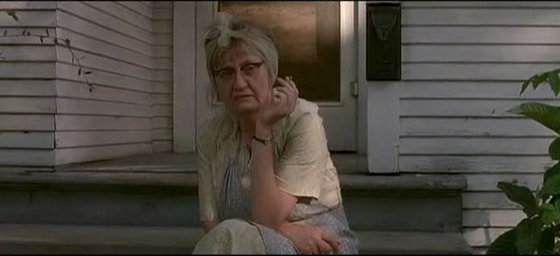face: (213, 54, 268, 111)
ms: (1, 1, 560, 256)
person: (191, 11, 360, 256)
